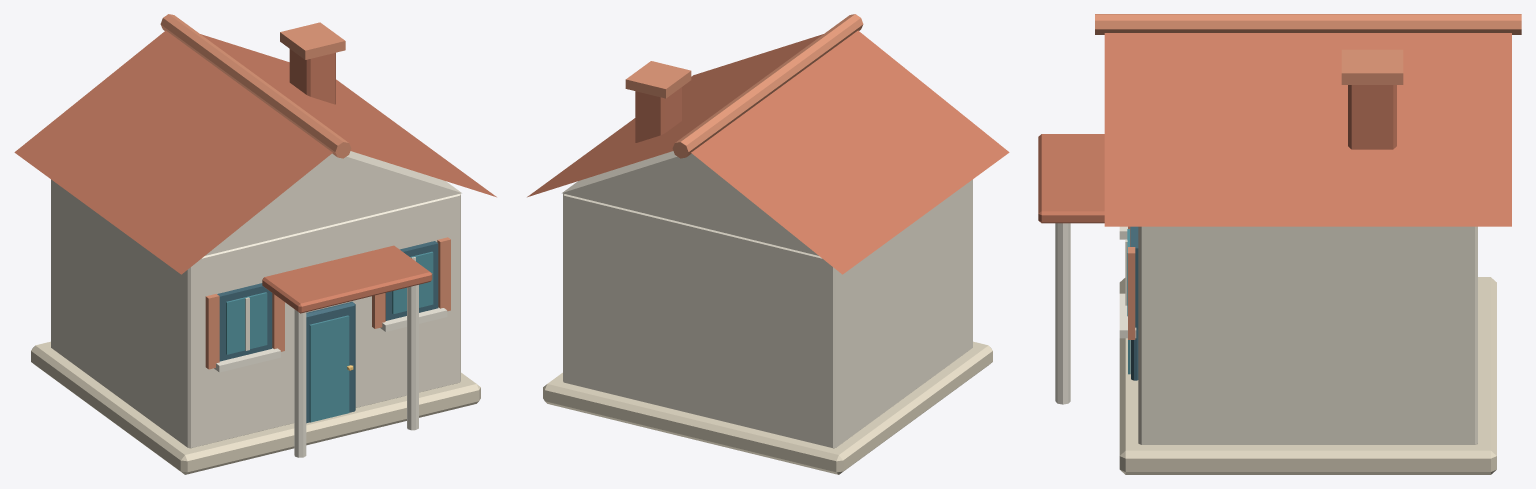
File: coastal_house_a.glb
3 views of the same model, side by side, from view 1: azimuth 30°, elevation 25°; view 2: azimuth 150°, elevation 25°; view 3: azimuth 270°, elevation 25° (orthographic). The views are drawn at different scales.
Visible parts, largest first — view 1: coastal_house_a; view 2: coastal_house_a; view 3: coastal_house_a.
Part boxes in pixels (x1,y1,x2,y2): coastal_house_a: (14, 14, 496, 474); coastal_house_a: (527, 14, 1009, 474); coastal_house_a: (1038, 14, 1521, 474).
Size of the model in its own units: 5.9 by 5.5 by 6.4.
